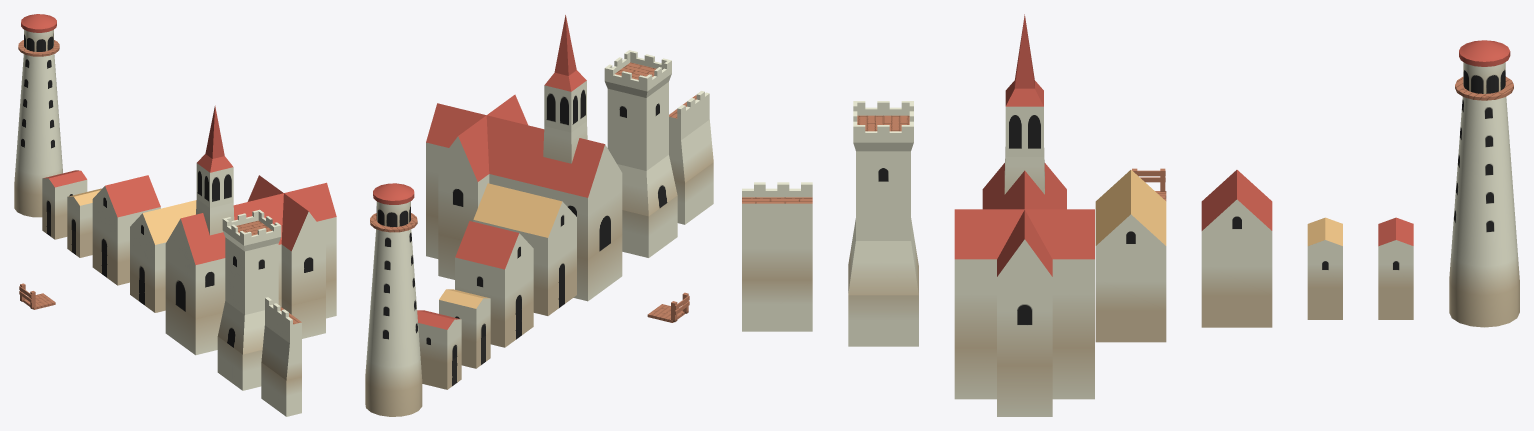
File: 2ndBatchBuildings.glb
The picture shows the model from 3 angles, left to right: view 1: azimuth 30°, elevation 25°; view 2: azimuth 150°, elevation 25°; view 3: azimuth 270°, elevation 25°; orthographic projection. The views are drawn at different scales.
Visible parts, largest first — view 1: Church, Tower, LightHouse, HouseRed, Wall, HouseYel, ShedRed, ShedYel; view 2: Church, Tower, LightHouse, HouseYel, HouseRed, Wall, ShedRed, ShedYel, Walkway, Fence; view 3: Church, LightHouse, Tower, HouseYel, Wall, HouseRed, ShedRed, ShedYel.
Part boxes in pixels (bbox=[...]): Church: bbox=[165, 105, 336, 355]; Tower: bbox=[217, 209, 281, 390]; LightHouse: bbox=[14, 14, 62, 217]; HouseRed: bbox=[92, 175, 160, 285]; Wall: bbox=[261, 297, 301, 416]; HouseYel: bbox=[130, 200, 196, 312]; ShedRed: bbox=[42, 170, 87, 239]; ShedYel: bbox=[67, 188, 101, 257]; Church: bbox=[426, 15, 622, 301]; Tower: bbox=[604, 50, 677, 257]; LightHouse: bbox=[365, 183, 422, 416]; HouseYel: bbox=[473, 183, 576, 315]; HouseRed: bbox=[455, 221, 533, 347]; Wall: bbox=[669, 91, 713, 224]; ShedRed: bbox=[417, 310, 461, 389]; ShedYel: bbox=[439, 289, 490, 368]; Walkway: bbox=[647, 304, 684, 322]; Fence: bbox=[671, 292, 689, 322]; Church: bbox=[954, 14, 1094, 416]; LightHouse: bbox=[1449, 40, 1519, 327]; Tower: bbox=[848, 101, 918, 346]; HouseYel: bbox=[1095, 170, 1166, 342]; Wall: bbox=[742, 182, 812, 331]; HouseRed: bbox=[1201, 170, 1272, 327]; ShedRed: bbox=[1378, 217, 1413, 319]; ShedYel: bbox=[1307, 217, 1342, 319].
Size of the model in its own units: 11.88 by 10.2 by 22.
Materials: 1 (1 with a texture image).
